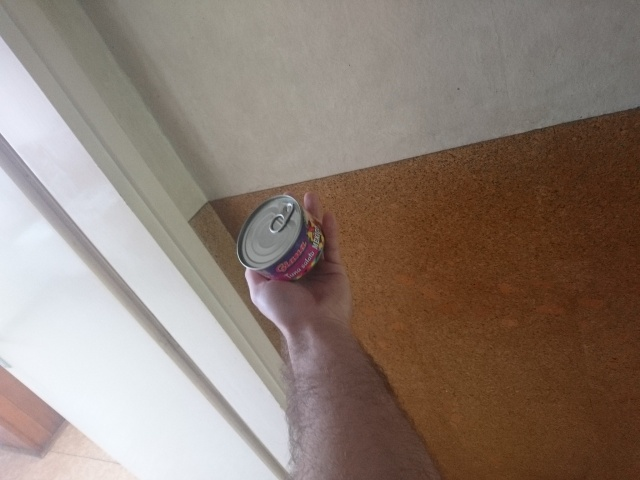Giana Tuna Salad Mexico 185g: (233, 192, 328, 284)
